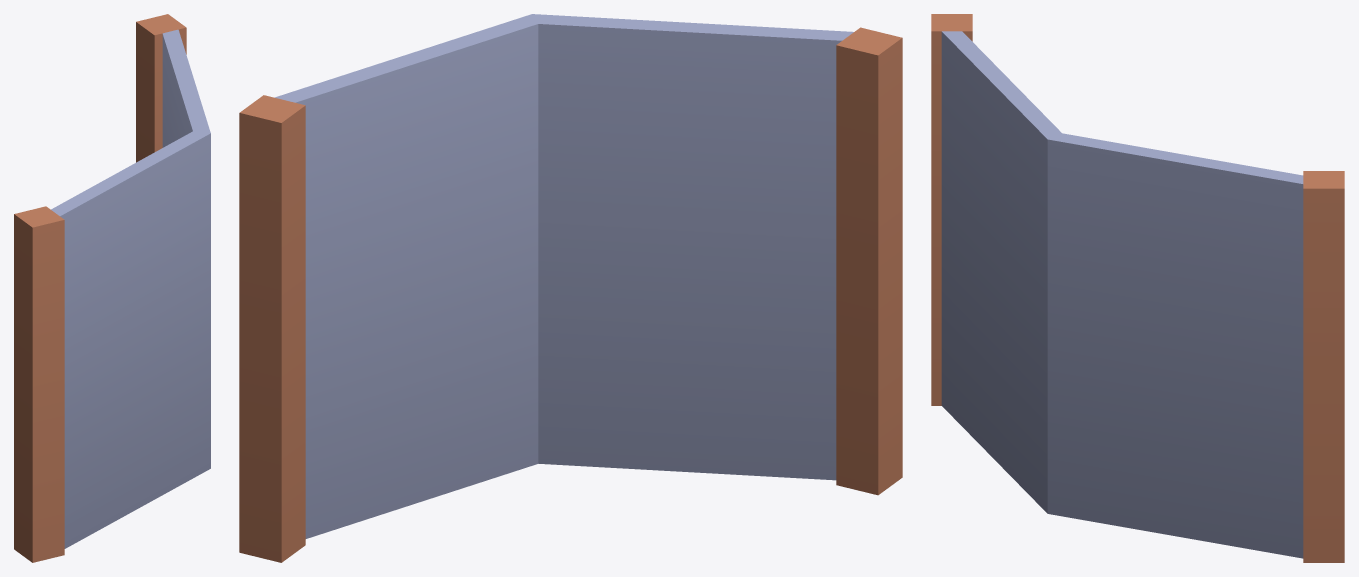
Rendered from wall-corner-edge.glb.
The picture shows the model from 3 angles, left to right: view 1: azimuth 30°, elevation 25°; view 2: azimuth 150°, elevation 25°; view 3: azimuth 270°, elevation 25°; orthographic projection. The views are drawn at different scales.
Parts seen in each view (by area): view 1: wall-corner-edge; view 2: wall-corner-edge; view 3: wall-corner-edge.
Part boxes in pixels (x1,y1,x2,y2): wall-corner-edge: (14,14,210,562); wall-corner-edge: (239,14,902,562); wall-corner-edge: (931,14,1344,562).
Size of the model in its own units: 1 by 1 by 1.
1 material, 1 textured.
